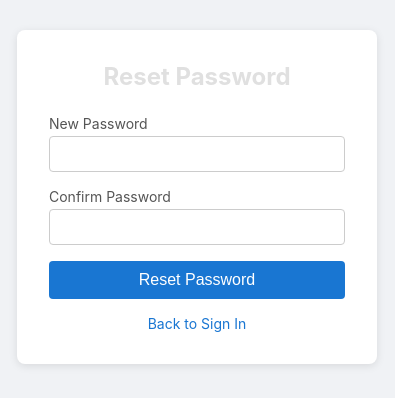
Test: ResetPasswordPage › shows error when fields are empty
The image size is (395, 398).
Click the button "Reset Password": (197, 280) [49,261,345,299]
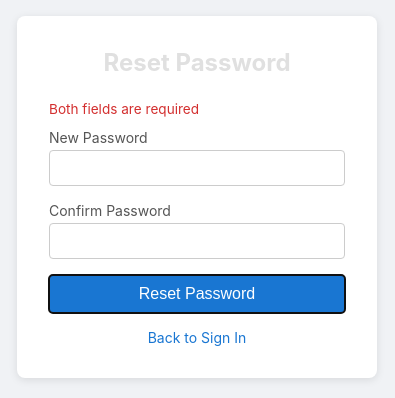
Expected: the text "Both fields are required" is shown, [49,101,199,117]
